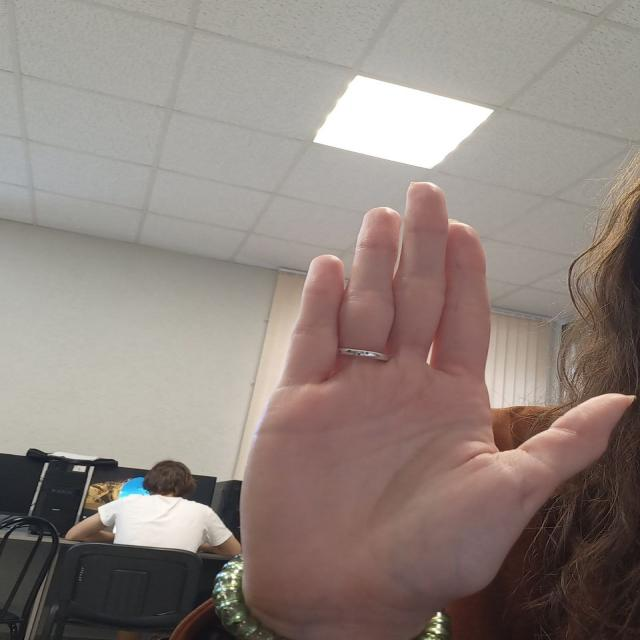v: (222, 182, 640, 616)
